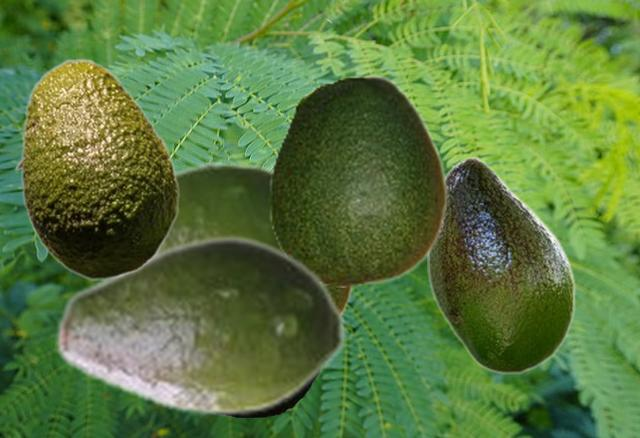avocado: (55, 234, 347, 417), (268, 74, 447, 286), (14, 58, 179, 279), (427, 156, 575, 373), (162, 158, 278, 247), (235, 379, 318, 417), (329, 287, 353, 314)
